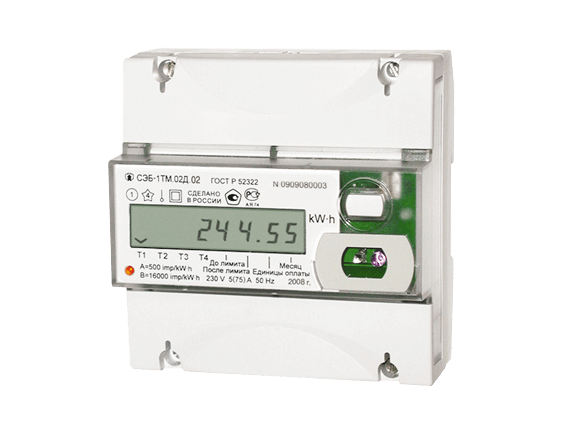counter: (108, 51, 436, 384)
counter_screen: (127, 202, 309, 256)
